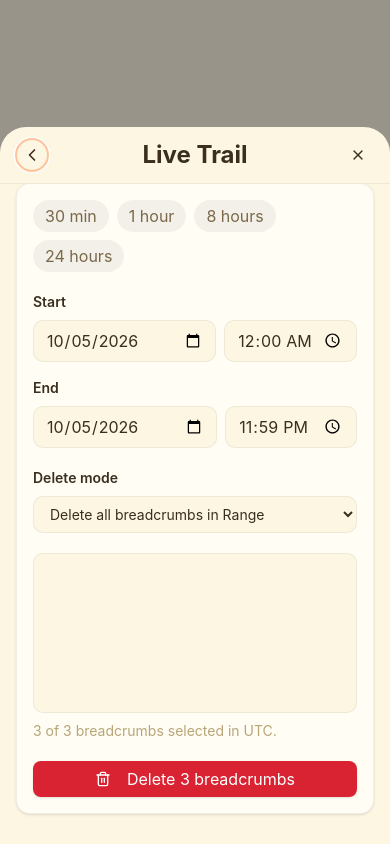
Test: OptionsSheet Breadcrumb Jitter Detection › displays distance and time difference between breadcrumbs in individual mode
(page scrolled)
Select "Delete individual breadcrumbs" in the dropdown labelled "Delete mode" at (195, 514), box [33,496,357,533]
(page scrolled)
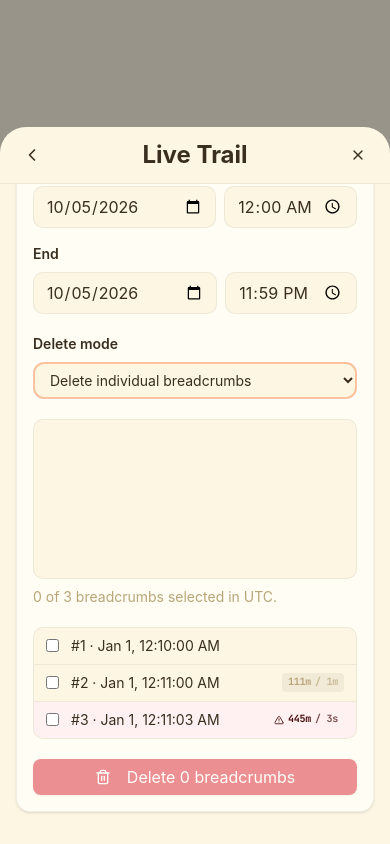
Now the text "111m / 1m" is shown, box [282,674,344,692]
Now the text "/ 1m" is shown, box [315,676,338,690]
Now the text "445m / 3s" is shown, box [268,710,344,729]
